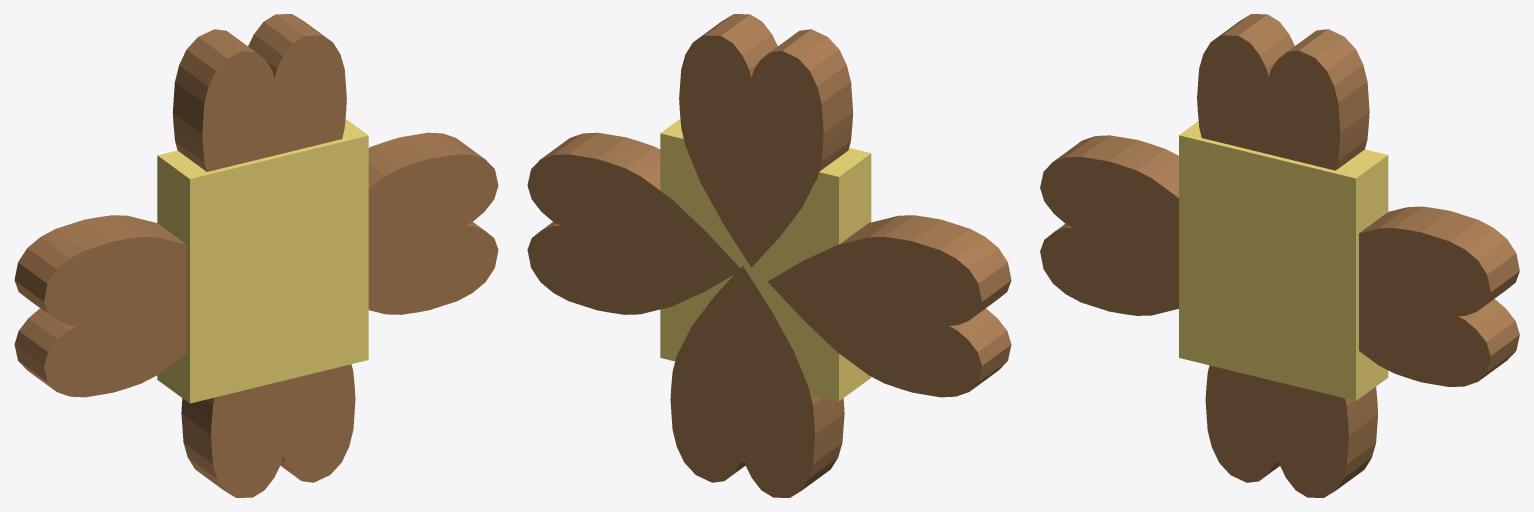
The model's file is tinker.obj.
3 renders of one model, left to right at view 1: azimuth 30°, elevation 25°; view 2: azimuth 150°, elevation 25°; view 3: azimuth 330°, elevation 25°, orthographic.
Visible parts, largest first — view 1: group_0_11107152, group_0_16113784; view 2: group_0_11107152, group_0_16113784; view 3: group_0_11107152, group_0_16113784.
Part boxes in pixels (box(x1,y1,x2,y2)): group_0_11107152: box(14, 14, 498, 497); group_0_16113784: box(157, 119, 368, 403); group_0_11107152: box(527, 14, 1011, 497); group_0_16113784: box(660, 119, 871, 401); group_0_11107152: box(1040, 14, 1519, 497); group_0_16113784: box(1179, 121, 1388, 400).
Bounding box in the file's own units: 89 × 84 × 11.
